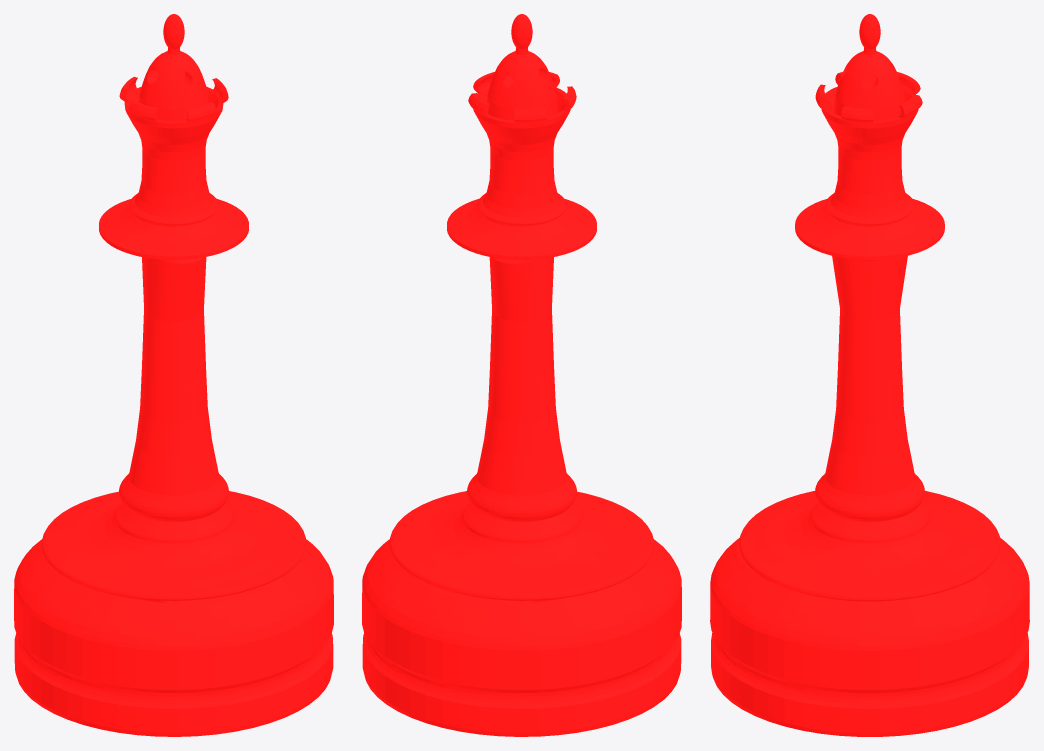
Rendered from reina_roja.glb.
The picture shows the model from 3 angles, left to right: view 1: azimuth 30°, elevation 25°; view 2: azimuth 150°, elevation 25°; view 3: azimuth 270°, elevation 25°; orthographic projection.
Visible parts, largest first — view 1: Queen; view 2: Queen; view 3: Queen.
Part boxes in pixels (x1,y1,x2,y2): Queen: [14, 14, 333, 736]; Queen: [362, 14, 681, 736]; Queen: [710, 14, 1029, 736].
Bounding box in the file's own units: 0.038 × 0.086 × 0.038.
